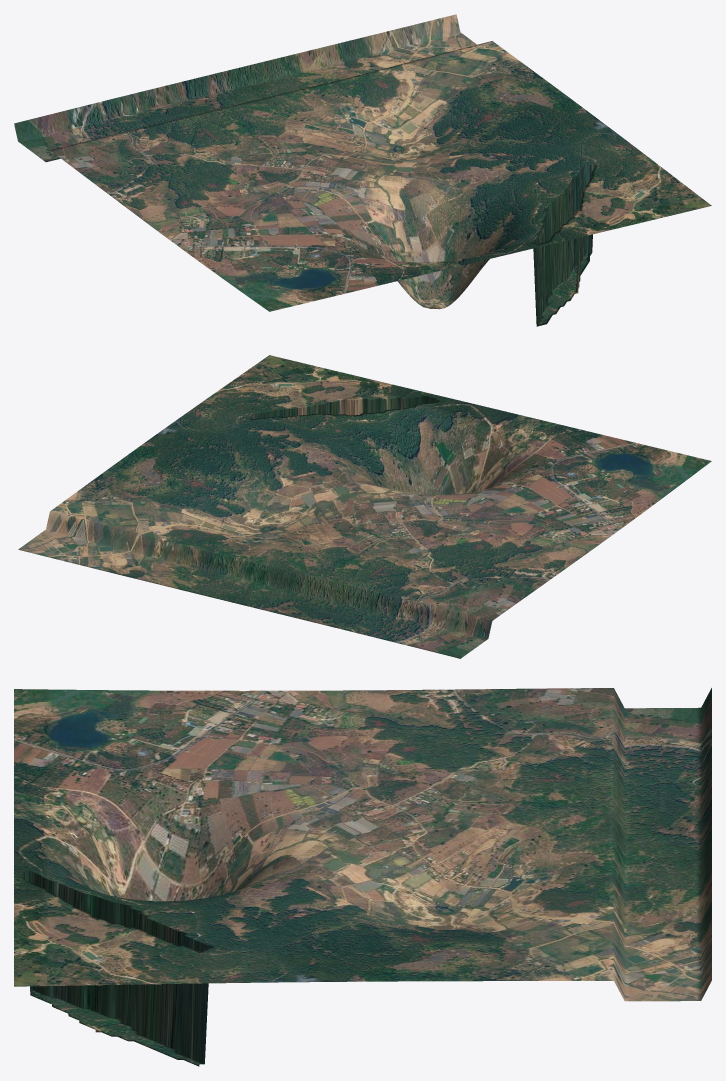
The model's file is terrain_real_T_W05_S02.glb.
3 views of the same model, one above another, from view 1: azimuth 30°, elevation 25°; view 2: azimuth 150°, elevation 25°; view 3: azimuth 270°, elevation 25° (orthographic). The views are drawn at different scales.
Parts seen in each view (by area): view 1: Terrain_Real_DEM_T_W05_S02; view 2: Terrain_Real_DEM_T_W05_S02; view 3: Terrain_Real_DEM_T_W05_S02.
Part boxes in pixels (x1,y1,x2,y2): Terrain_Real_DEM_T_W05_S02: (14, 14, 711, 326); Terrain_Real_DEM_T_W05_S02: (18, 355, 711, 658); Terrain_Real_DEM_T_W05_S02: (14, 688, 711, 1066).
Size of the model in its own units: 2000 by 382 by 2000.
Materials: 1 (1 with a texture image).
